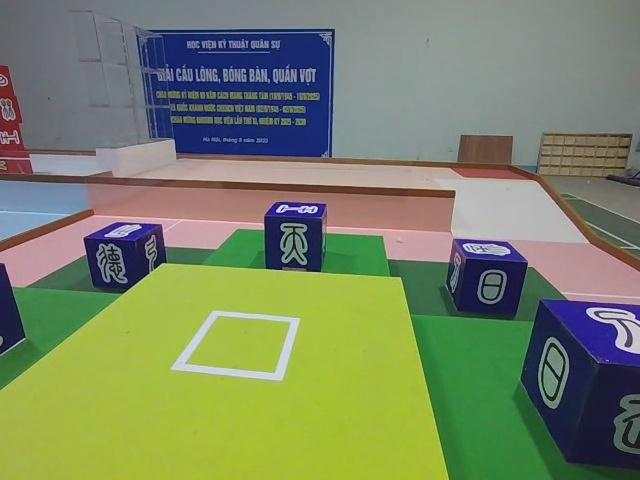R2 Fake Blue: (519, 294, 639, 474), (446, 238, 530, 320), (85, 223, 170, 294), (262, 201, 328, 273), (0, 262, 27, 380)
